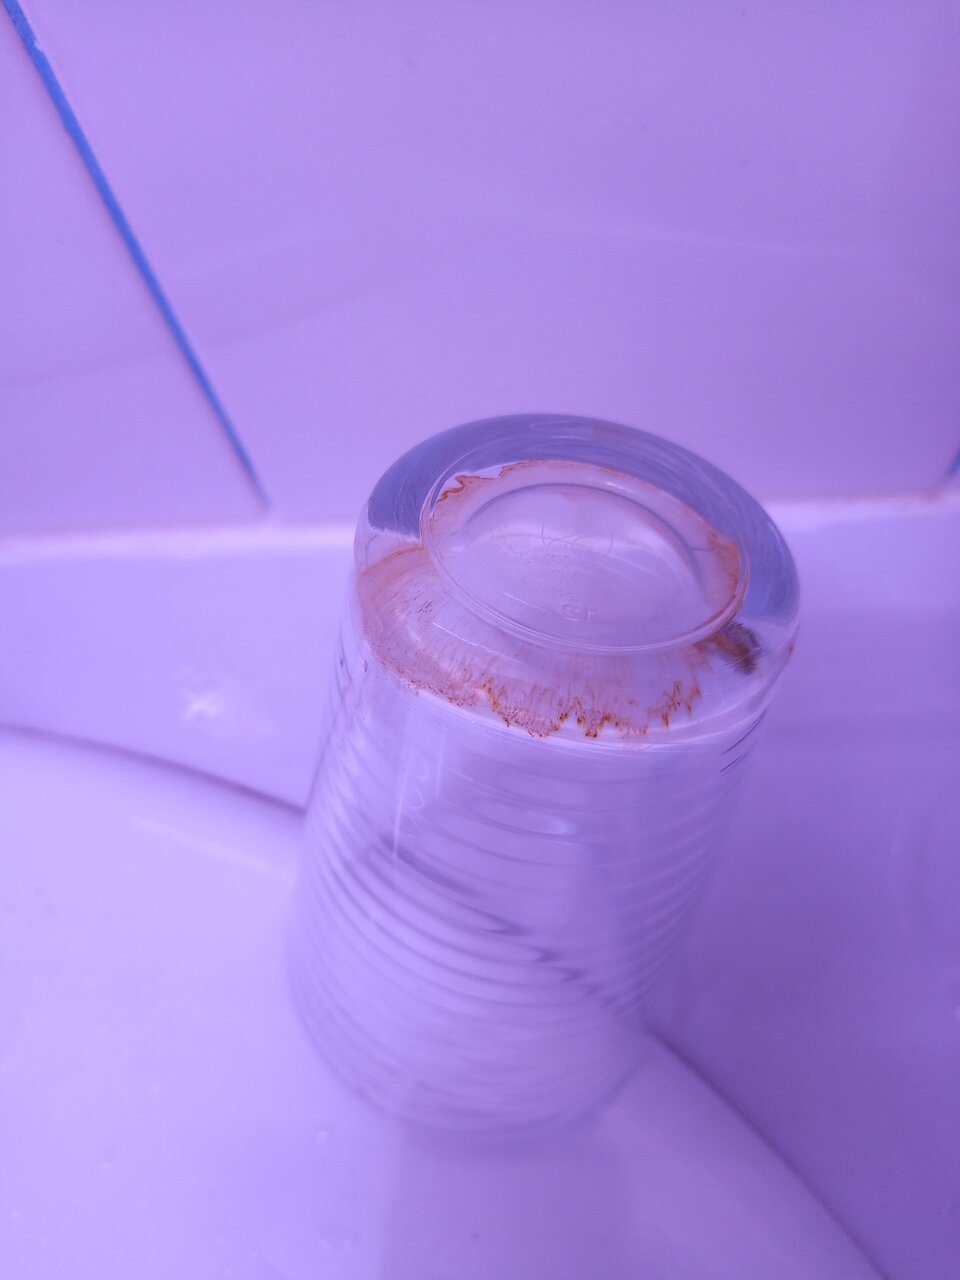glass: (282, 380, 813, 1161)
